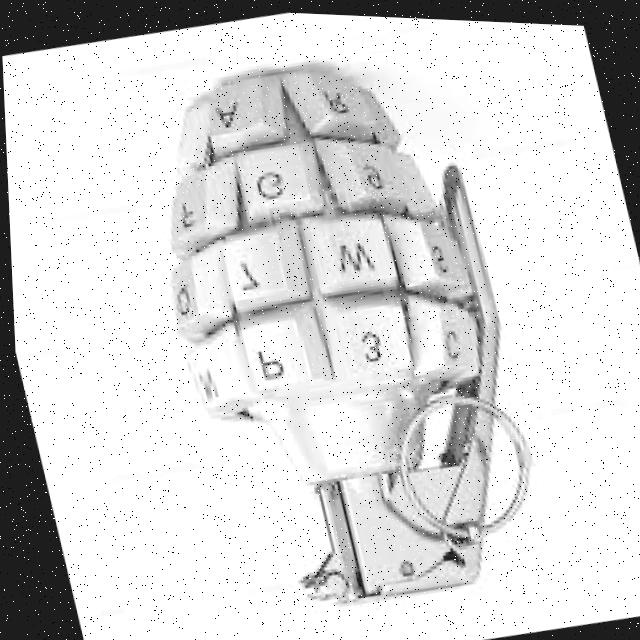grenade: (120, 35, 591, 640)
